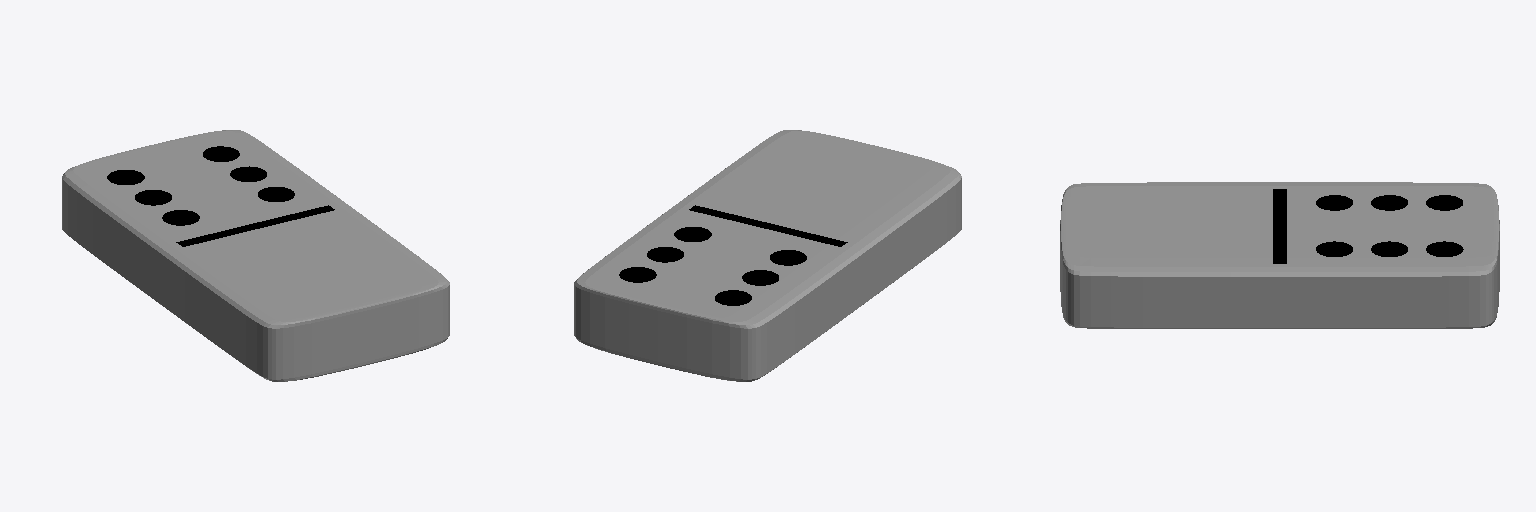
3 renders of one model, left to right at view 1: azimuth 30°, elevation 25°; view 2: azimuth 150°, elevation 25°; view 3: azimuth 270°, elevation 25°, orthographic.
Parts seen in each view (by area): view 1: Domino_1-6_Cube.010; view 2: Domino_1-6_Cube.010; view 3: Domino_1-6_Cube.010.
Boxes of the visible parts, x1=… form: Domino_1-6_Cube.010: x1=62, y1=130, x2=449, y2=381; Domino_1-6_Cube.010: x1=574, y1=130, x2=961, y2=381; Domino_1-6_Cube.010: x1=1060, y1=182, x2=1499, y2=328.
Size of the model in its own units: 2 by 0.5993 by 3.99.